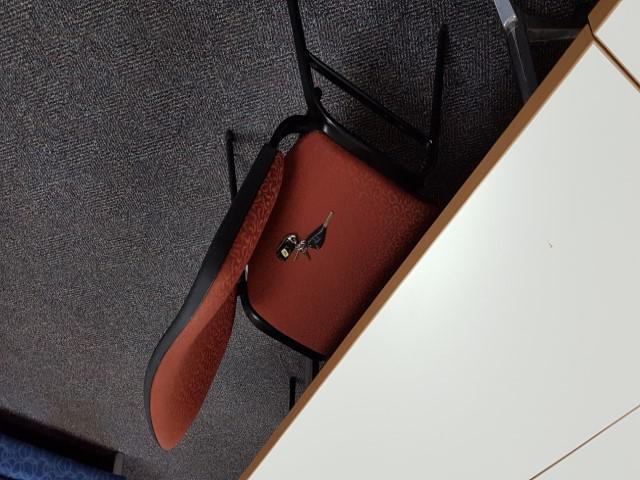key: (301, 209, 336, 250)
